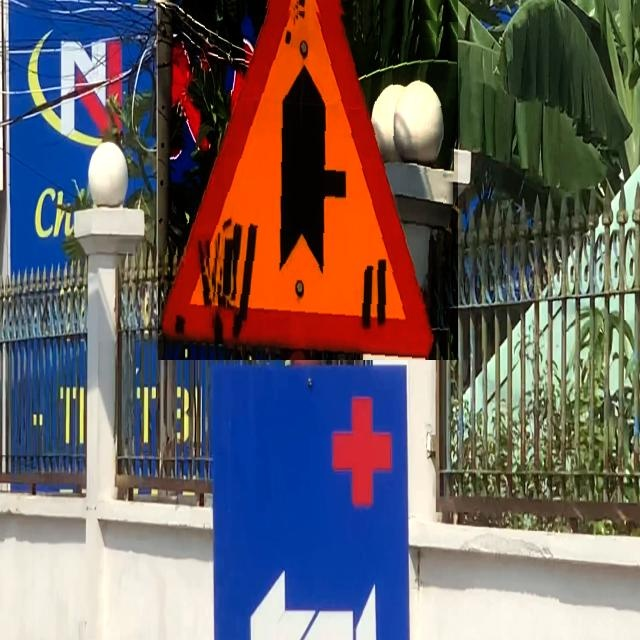bien_nguy_hiem: (158, 0, 458, 360)
